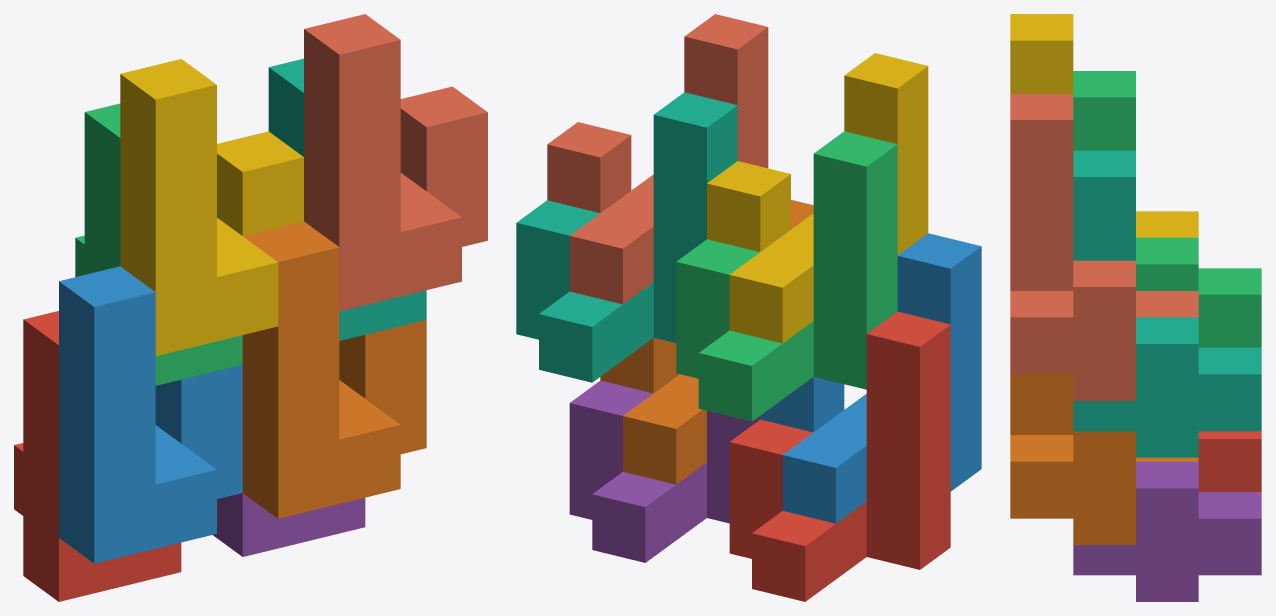
The model's file is tiling.obj.
3 views of the same model, side by side, from view 1: azimuth 30°, elevation 25°; view 2: azimuth 150°, elevation 25°; view 3: azimuth 270°, elevation 25° (orthographic). The views are drawn at different scales.
Visible parts, largest first — view 1: copy_1_domain_8, copy_1_domain_2, copy_1_domain_4, copy_1_domain_6, copy_1_domain_1, copy_1_domain_3, copy_1_domain_5, copy_1_domain_7; view 2: copy_1_domain_1, copy_1_domain_3, copy_1_domain_7, copy_1_domain_4, copy_1_domain_8, copy_1_domain_2, copy_1_domain_5, copy_1_domain_6; view 3: copy_1_domain_8, copy_1_domain_7, copy_1_domain_6, copy_1_domain_5, copy_1_domain_3, copy_1_domain_4, copy_1_domain_1.
Boxes of the visible parts, box(x1,y1,x2,y2) form: copy_1_domain_8: box(304, 14, 487, 311); copy_1_domain_2: box(59, 266, 242, 563); copy_1_domain_4: box(120, 59, 303, 355); copy_1_domain_6: box(242, 221, 426, 518); copy_1_domain_1: box(14, 311, 181, 601); copy_1_domain_3: box(75, 103, 242, 385); copy_1_domain_5: box(213, 493, 365, 556); copy_1_domain_7: box(268, 58, 426, 340); copy_1_domain_1: box(729, 311, 950, 601); copy_1_domain_3: box(676, 131, 897, 421); copy_1_domain_7: box(516, 92, 737, 382); copy_1_domain_4: box(707, 53, 928, 343); copy_1_domain_8: box(547, 14, 768, 304); copy_1_domain_2: box(760, 233, 981, 523); copy_1_domain_5: box(569, 380, 760, 562); copy_1_domain_6: box(600, 200, 813, 484); copy_1_domain_8: box(1010, 93, 1198, 400); copy_1_domain_7: box(1073, 150, 1261, 457); copy_1_domain_6: box(1010, 374, 1198, 544); copy_1_domain_5: box(1073, 461, 1261, 601); copy_1_domain_3: box(1073, 71, 1261, 347); copy_1_domain_4: box(1010, 14, 1198, 237); copy_1_domain_1: box(1198, 431, 1261, 491).
Size of the model in its own units: 7 by 8 by 4.
